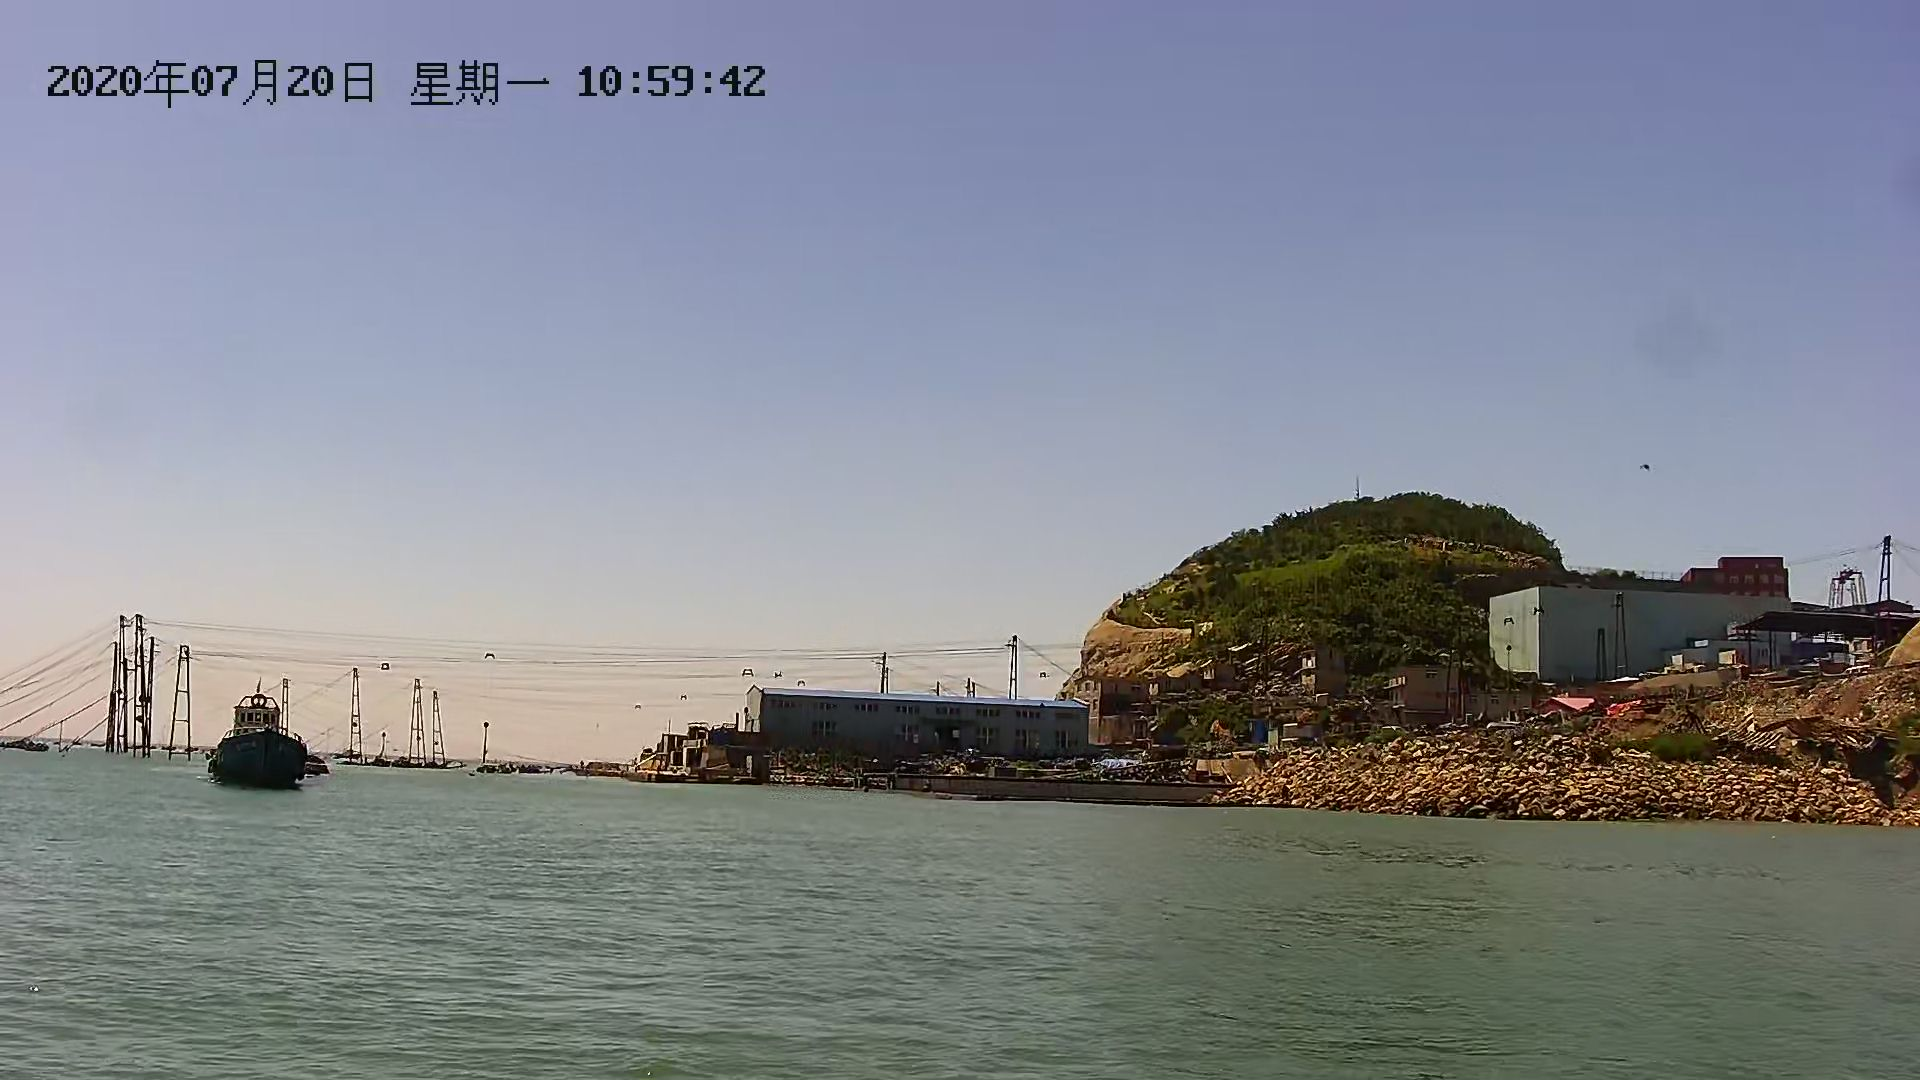ship: (215, 684, 307, 793)
